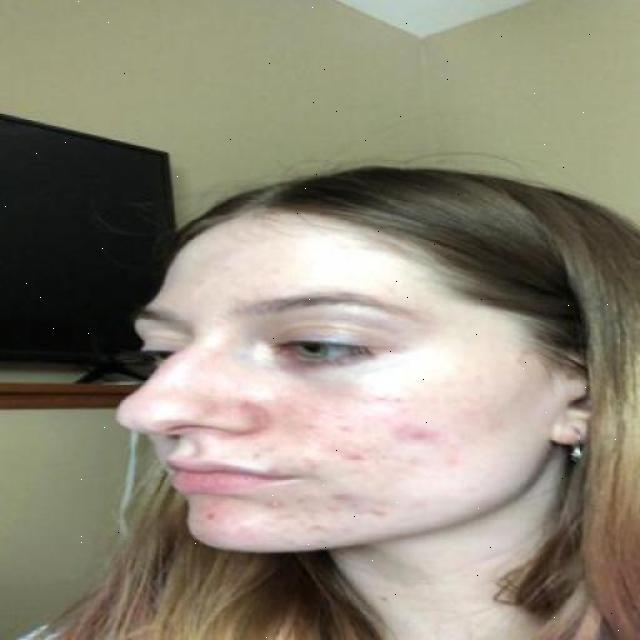Acne: (188, 402, 456, 546)
